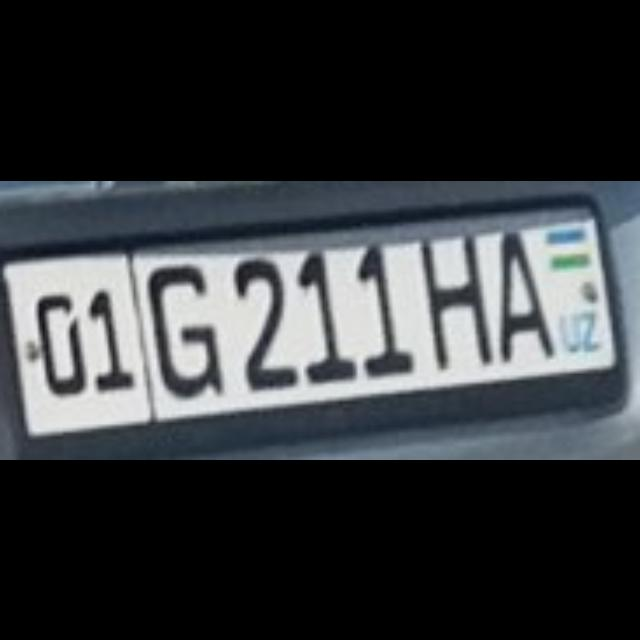0: (31, 288, 80, 389)
1: (294, 250, 350, 380), (353, 243, 409, 369), (87, 284, 129, 390)
2: (232, 254, 290, 386)
A: (497, 226, 553, 354)
G: (144, 261, 220, 394)
H: (416, 232, 489, 366)
